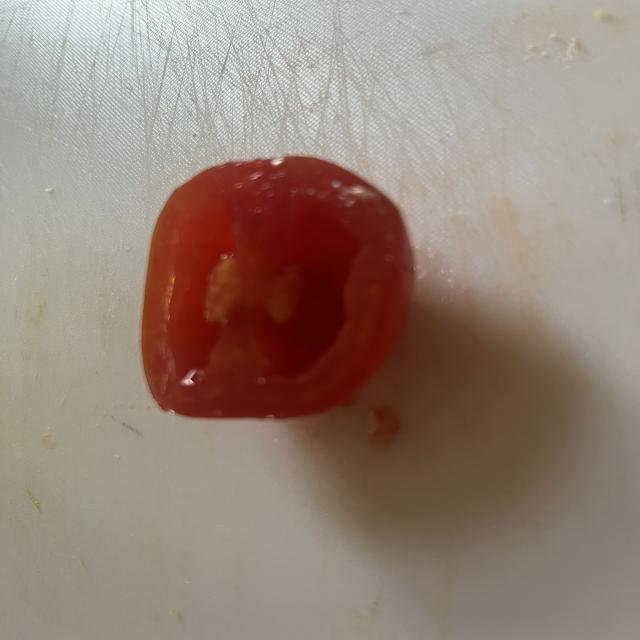sliced_tomato: (142, 157, 412, 417)
